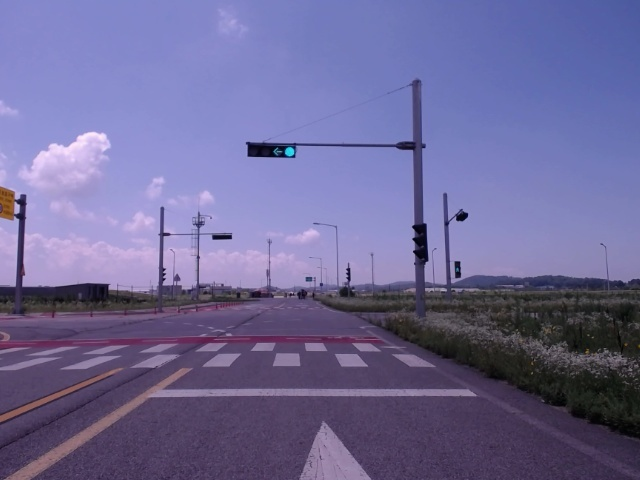all_green_4: (245, 142, 299, 158)
